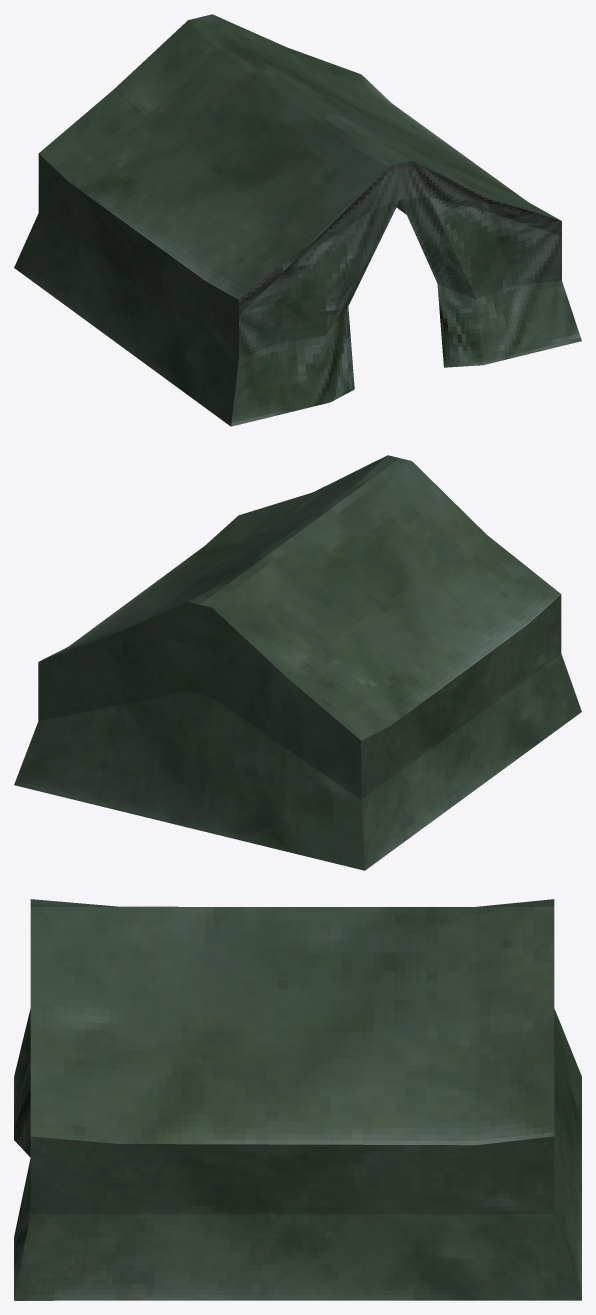
File: mil_tent.fbx
3 renders of one model, top to bottom at view 1: azimuth 30°, elevation 25°; view 2: azimuth 150°, elevation 25°; view 3: azimuth 270°, elevation 25°, orthographic. The views are drawn at different scales.
Visible parts, largest first — view 1: Cube; view 2: Cube; view 3: Cube.
Part boxes in pixels (x1,y1,x2,y2): Cube: (14, 14, 581, 426); Cube: (14, 455, 581, 870); Cube: (14, 899, 581, 1300).
Size of the model in its own units: 202 by 119 by 217.
